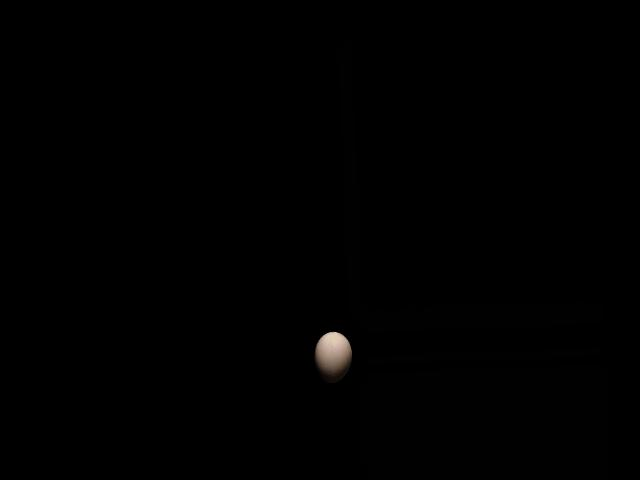egg: (313, 330, 352, 383)
